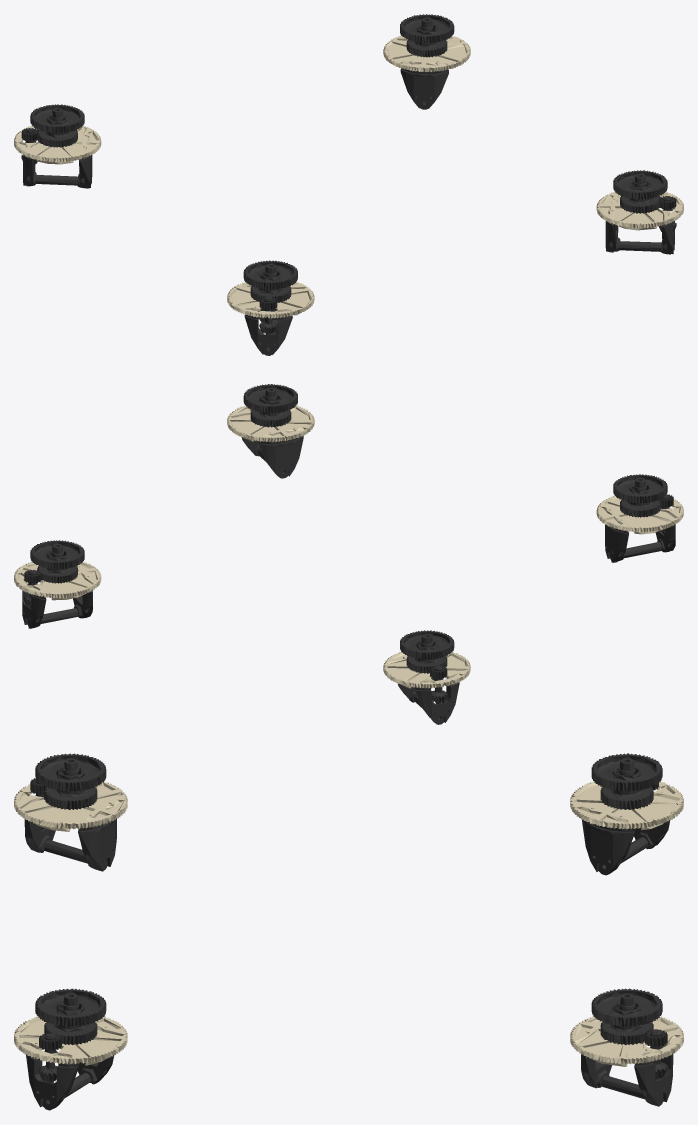
File: 604-steer.glb
3 renders of one model, top to bottom at view 1: azimuth 30°, elevation 25°; view 2: azimuth 150°, elevation 25°; view 3: azimuth 270°, elevation 25°, orthographic. The views are drawn at different scales.
Parts seen in each view (by area): view 1: WCP Swerve X2 Drive Bevel Gear Shaft (15t, Standard, Steel) , WCP Swerve X2 (88t Rotation Gear) (WCP-1712), 16t Steel Spur Gear (20 DP, 3/8" Hex Bore) (WCP-0732); view 2: WCP Swerve X2 Drive Bevel Gear Shaft (15t, Standard, Steel) , WCP Swerve X2 (88t Rotation Gear) (WCP-1712), 16t Steel Spur Gear (20 DP, 3/8" Hex Bore) (WCP-0732); view 3: WCP Swerve X2 Drive Bevel Gear Shaft (15t, Standard, Steel) , WCP Swerve X2 (88t Rotation Gear) (WCP-1712), 16t Steel Spur Gear (20 DP, 3/8" Hex Bore) (WCP-0732).
Boxes of the visible parts, bbox=[...] form: WCP Swerve X2 Drive Bevel Gear Shaft (15t, Standard, Steel) : bbox=[21, 14, 676, 355]; WCP Swerve X2 (88t Rotation Gear) (WCP-1712): bbox=[14, 35, 683, 318]; 16t Steel Spur Gear (20 DP, 3/8" Hex Bore) (WCP-0732): bbox=[21, 128, 676, 310]; WCP Swerve X2 Drive Bevel Gear Shaft (15t, Standard, Steel) : bbox=[22, 384, 675, 724]; WCP Swerve X2 (88t Rotation Gear) (WCP-1712): bbox=[14, 406, 683, 688]; 16t Steel Spur Gear (20 DP, 3/8" Hex Bore) (WCP-0732): bbox=[24, 494, 673, 679]; WCP Swerve X2 Drive Bevel Gear Shaft (15t, Standard, Steel) : bbox=[24, 753, 673, 1110]; WCP Swerve X2 (88t Rotation Gear) (WCP-1712): bbox=[14, 781, 683, 1066]; 16t Steel Spur Gear (20 DP, 3/8" Hex Bore) (WCP-0732): bbox=[30, 778, 667, 1050].
Size of the model in its own units: 0.6731 by 0.1111 by 0.6731.
